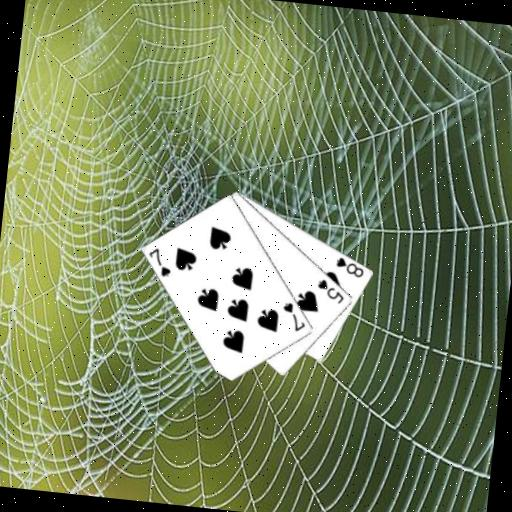5S: (314, 276, 349, 306)
7S: (278, 299, 310, 334), (144, 244, 175, 279)
8S: (332, 254, 367, 280)
